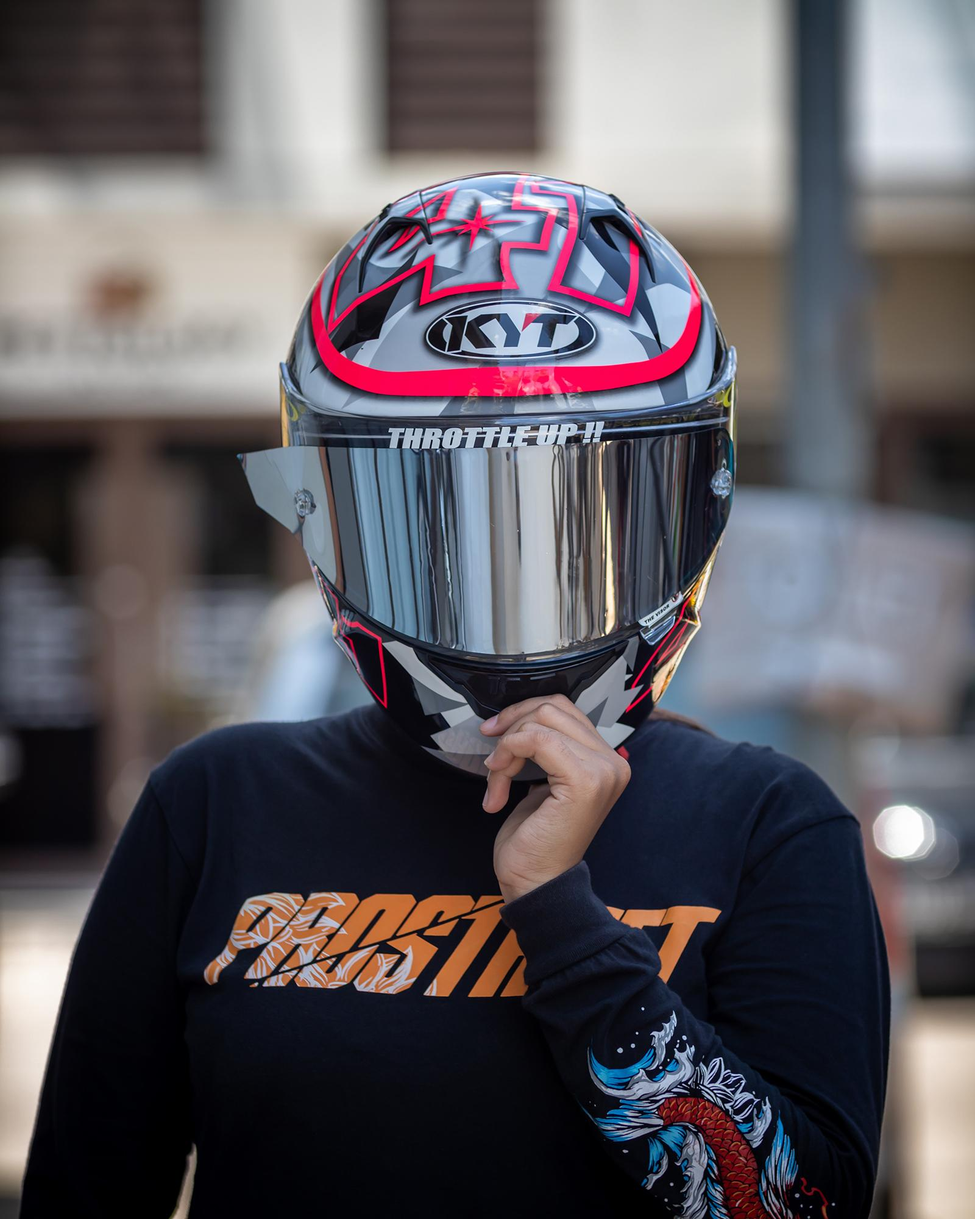helmet: (275, 166, 743, 790)
